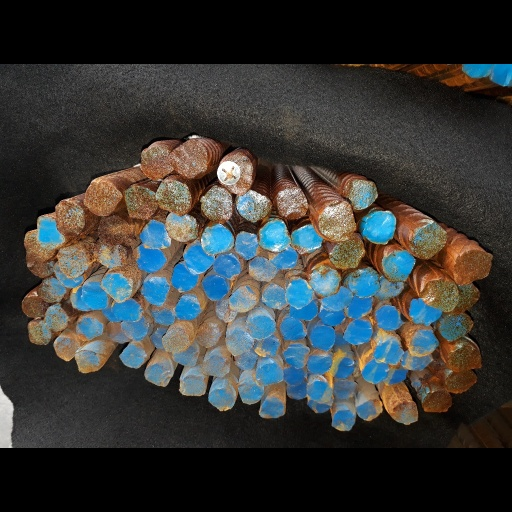dipstick: (172, 140, 208, 175), (85, 181, 122, 215), (322, 202, 356, 239), (414, 223, 447, 258), (220, 157, 251, 193), (455, 251, 491, 282), (157, 180, 189, 214), (332, 234, 363, 269), (125, 186, 157, 218), (237, 191, 270, 222), (141, 145, 171, 178), (202, 188, 231, 222), (365, 212, 395, 244), (426, 279, 456, 311), (277, 189, 307, 220), (183, 242, 213, 273), (166, 213, 198, 242), (260, 220, 290, 250), (24, 231, 53, 262), (385, 251, 414, 282), (56, 202, 85, 232), (97, 217, 128, 244), (351, 266, 378, 297), (141, 220, 169, 249), (292, 224, 321, 252), (202, 226, 232, 253), (440, 317, 473, 341), (311, 267, 339, 295), (350, 180, 377, 209), (131, 249, 165, 272), (37, 217, 63, 247), (410, 299, 440, 325), (141, 277, 168, 305), (58, 249, 84, 278), (285, 280, 314, 306), (171, 264, 198, 291), (201, 274, 228, 301), (448, 347, 481, 369), (95, 243, 124, 268), (458, 283, 481, 314), (445, 371, 477, 393), (104, 274, 131, 300), (344, 319, 372, 344), (111, 300, 142, 322), (248, 256, 274, 282), (321, 289, 351, 311), (174, 295, 201, 319), (391, 400, 419, 423), (284, 343, 309, 368), (235, 232, 258, 259), (409, 332, 437, 354), (82, 284, 106, 309), (226, 331, 251, 355), (209, 386, 233, 411), (377, 306, 402, 330), (311, 327, 335, 352), (375, 339, 400, 363), (39, 279, 65, 302), (162, 329, 188, 352), (263, 283, 286, 309), (44, 306, 68, 330), (197, 324, 220, 349), (214, 256, 240, 278), (230, 289, 256, 311), (421, 392, 450, 411), (250, 316, 275, 338), (281, 319, 306, 341), (76, 319, 103, 339), (358, 398, 382, 420), (257, 363, 282, 384), (347, 298, 372, 319), (305, 381, 330, 402), (259, 397, 284, 418), (203, 356, 229, 376), (23, 296, 45, 319), (28, 322, 50, 345), (54, 337, 78, 358), (329, 357, 353, 378), (362, 363, 387, 383), (401, 354, 432, 370), (332, 380, 358, 399), (145, 364, 168, 385), (332, 410, 355, 431), (237, 383, 262, 402), (121, 346, 144, 366), (150, 306, 174, 325), (379, 280, 403, 299), (75, 350, 96, 371), (309, 353, 331, 373), (26, 262, 54, 277), (172, 350, 200, 365), (182, 375, 204, 394), (254, 339, 278, 356), (123, 322, 146, 339), (276, 250, 296, 269), (320, 311, 345, 326), (284, 367, 306, 384), (287, 306, 317, 318), (68, 287, 82, 312), (384, 369, 407, 384), (107, 322, 122, 343), (216, 302, 231, 323), (285, 385, 306, 400), (235, 356, 256, 369), (150, 327, 162, 349), (308, 403, 330, 414)
